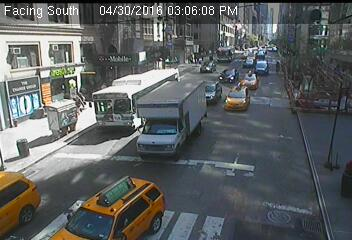neg: (289, 94, 303, 113), (117, 98, 129, 113), (115, 178, 125, 192)
pos: (72, 90, 84, 106)
